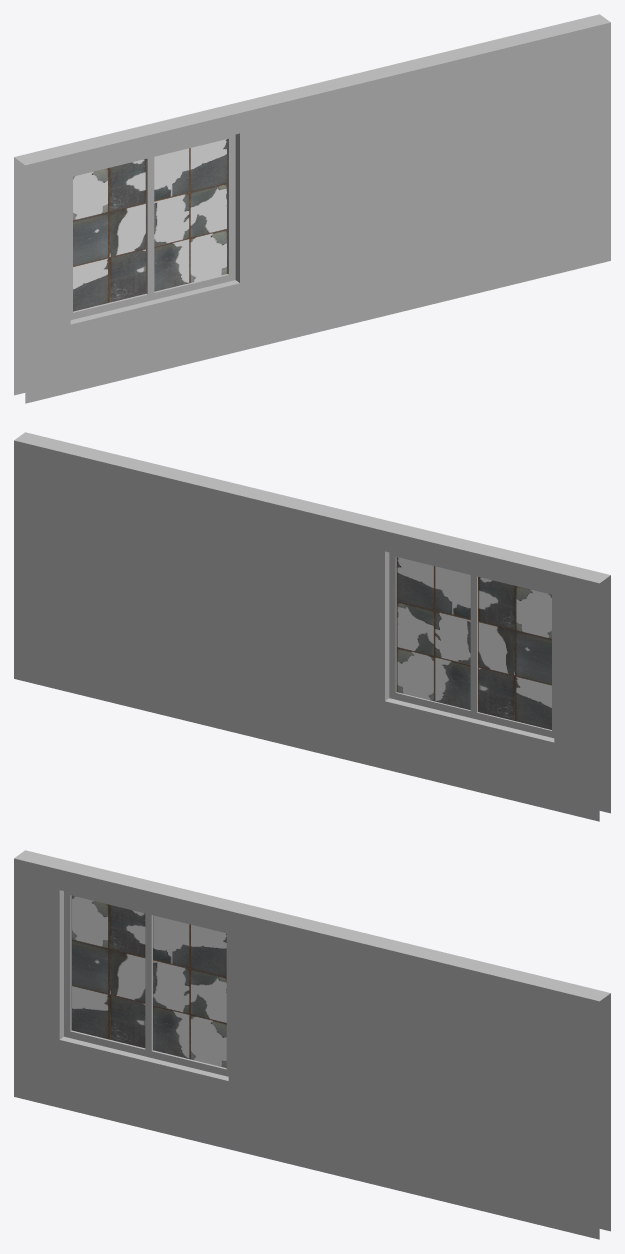
The model's file is Factory4Wall04.FBX.
3 views of the same model, one above another, from view 1: azimuth 30°, elevation 25°; view 2: azimuth 150°, elevation 25°; view 3: azimuth 330°, elevation 25° (orthographic).
Parts seen in each view (by area): view 1: Factory4Wall04, Factory4Wall04Glass; view 2: Factory4Wall04, Factory4Wall04Glass; view 3: Factory4Wall04, Factory4Wall04Glass.
Boxes of the visible parts, box(x1,y1,x2,y2) form: Factory4Wall04: box(14, 14, 610, 403); Factory4Wall04Glass: box(73, 139, 227, 311); Factory4Wall04: box(14, 432, 610, 821); Factory4Wall04Glass: box(396, 557, 551, 729); Factory4Wall04: box(14, 850, 610, 1239); Factory4Wall04Glass: box(71, 895, 226, 1067).
Bounding box in the file's own units: 900 × 350 × 30.
